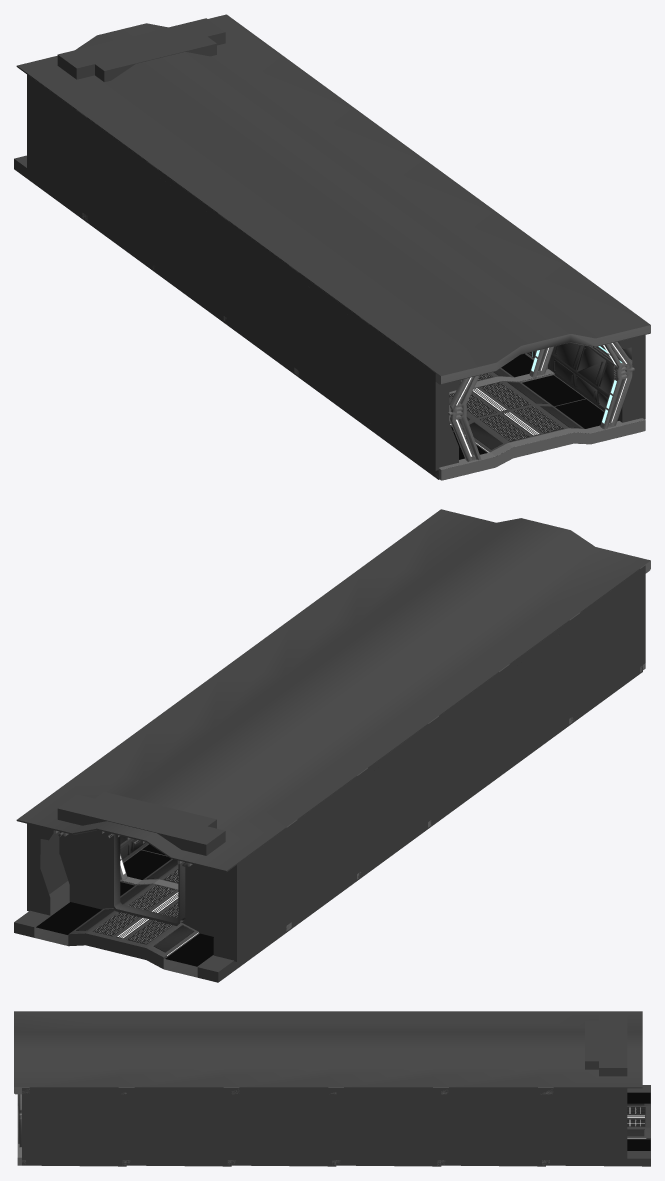
File: scifi-hallway-edited-2-transformed-compressedV2.glb
3 views of the same model, one above another, from view 1: azimuth 30°, elevation 25°; view 2: azimuth 150°, elevation 25°; view 3: azimuth 270°, elevation 25° (orthographic). The views are drawn at different scales.
Visible parts, largest first — view 1: Object_4, Object_5; view 2: Object_4; view 3: Object_4.
Boxes of the visible parts, x1,y1,x2,y2 form: Object_4: (14,14,650,480); Object_5: (450,343,626,456); Object_4: (14,509,650,982); Object_4: (14,1011,650,1166).
Bounding box in the file's own units: 10.29 × 5.59 × 36.45.
3 materials, 3 textured.
